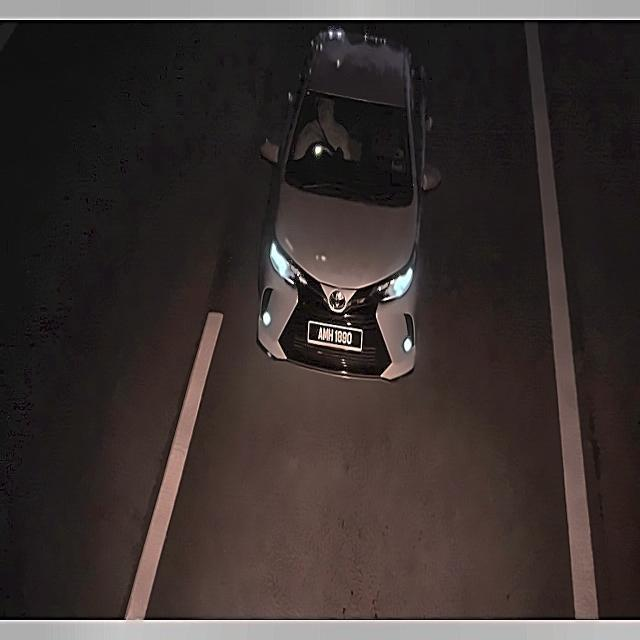car: (305, 316, 366, 358)
